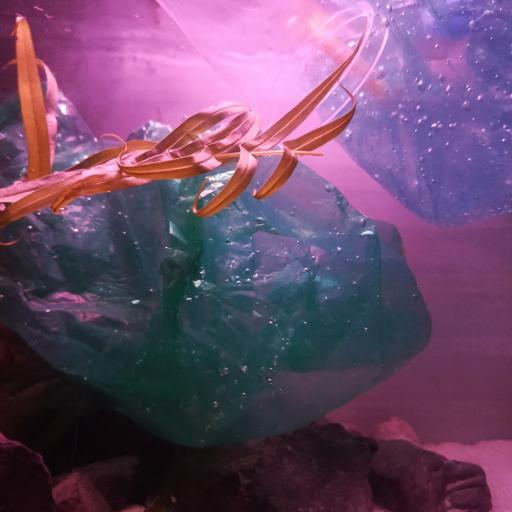plastic_bag: (0, 82, 433, 445), (309, 0, 512, 227)
plastic_cup: (157, 0, 391, 144)
